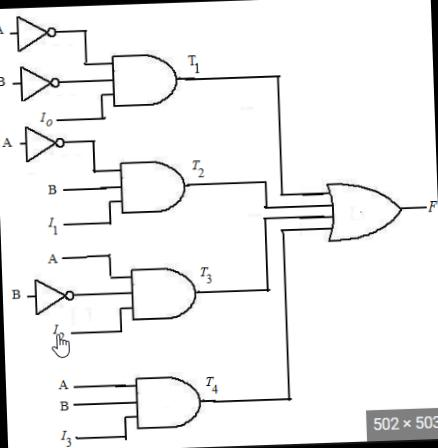and: (130, 366, 206, 438), (127, 260, 199, 328), (114, 157, 187, 220), (108, 49, 180, 110)
not: (30, 272, 78, 317), (10, 10, 60, 53), (20, 120, 68, 164), (17, 61, 63, 103)
or: (312, 170, 408, 248)
